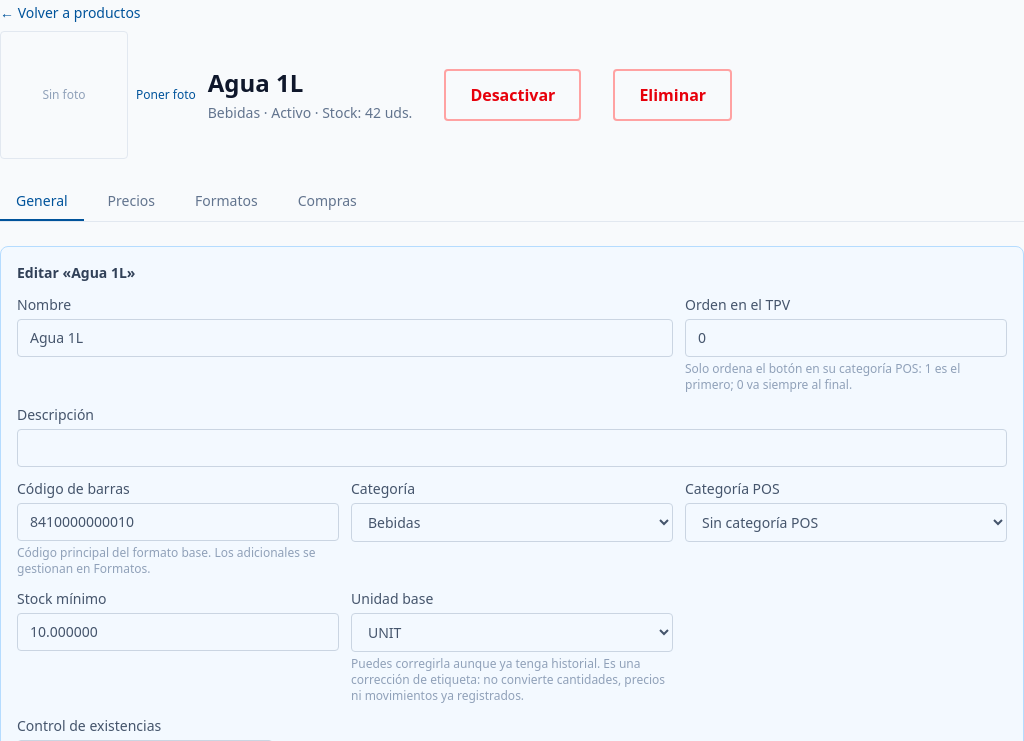
Test case: ProductDetailPage › shows the recalculated price from a cost or tax save before a slow reload
Expected: the field showing "Agua 1L" is shown, left=17, top=319, right=673, bottom=357
Click the button "Precios" at (131, 202), box left=92, top=183, right=171, bottom=221
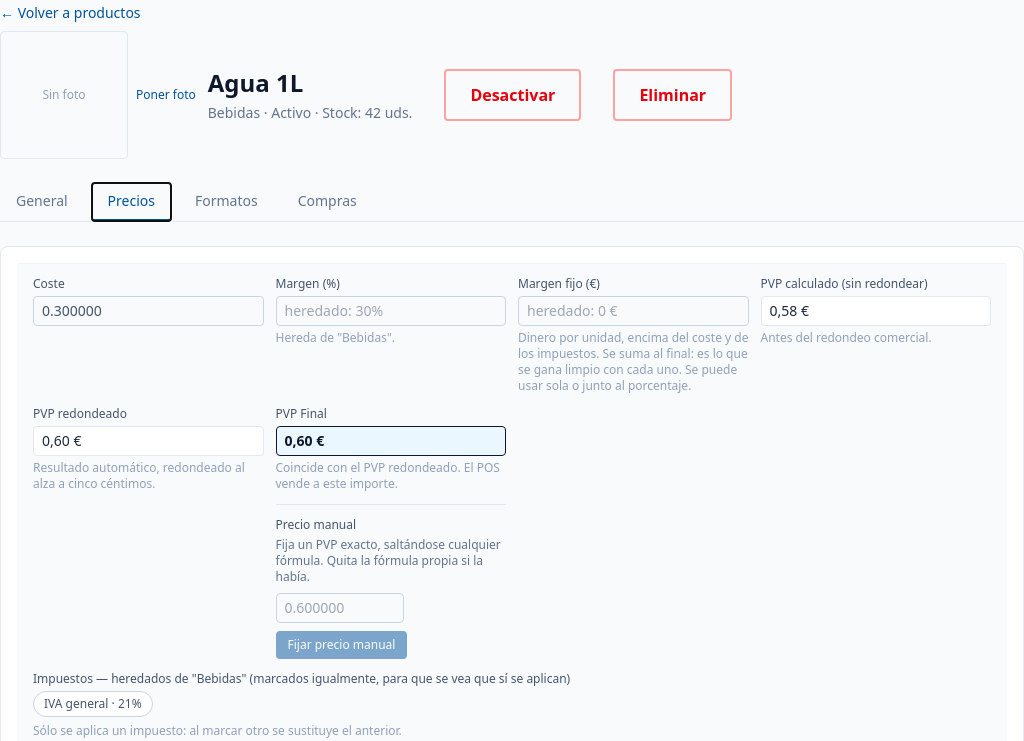
Click the button "IVA general · 21%" at (93, 704), box left=33, top=691, right=153, bottom=717
(page scrolled)
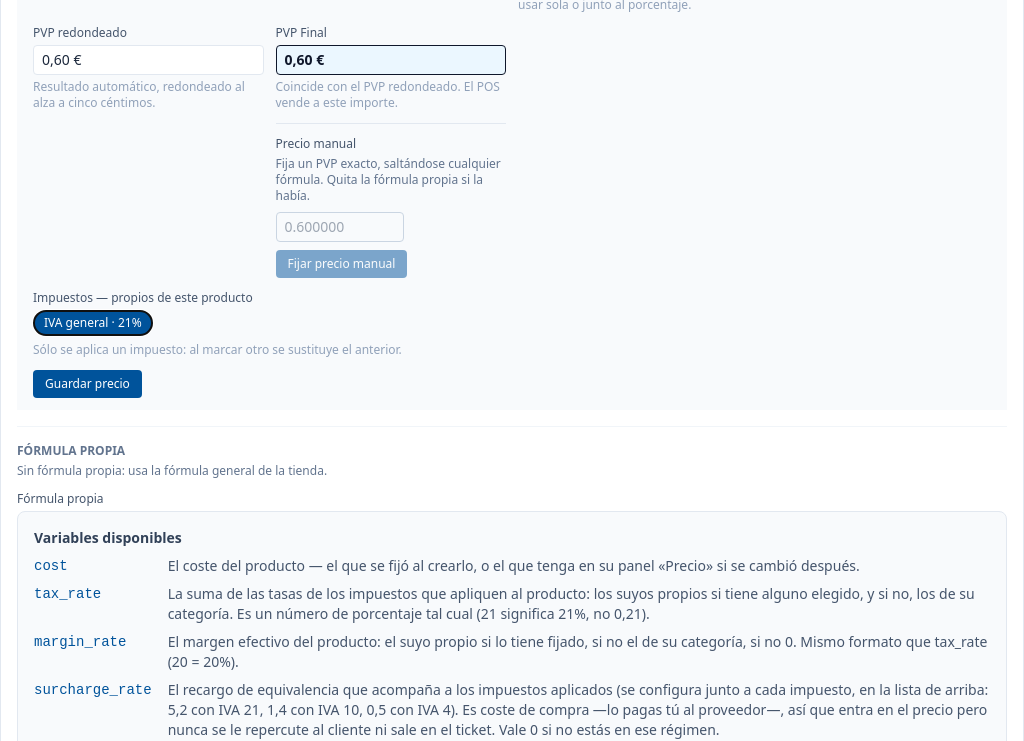
Click the button "Guardar precio" at (87, 384), box left=33, top=370, right=142, bottom=398
(page scrolled)
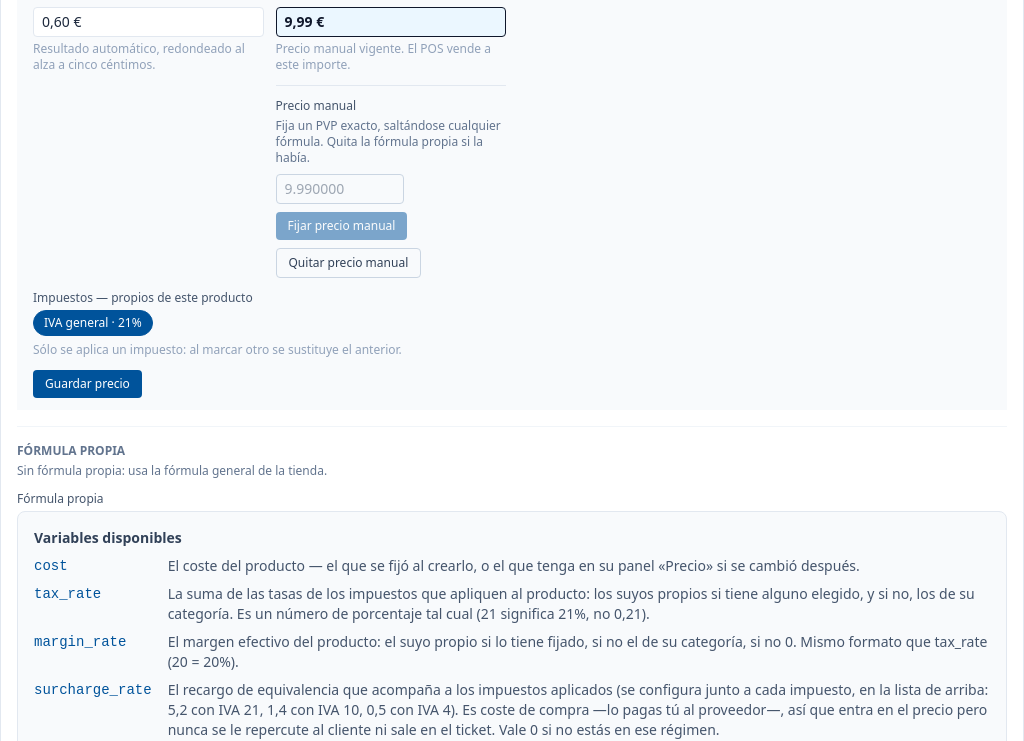
Expected: the text "9,99 €" is shown, left=276, top=7, right=506, bottom=37
